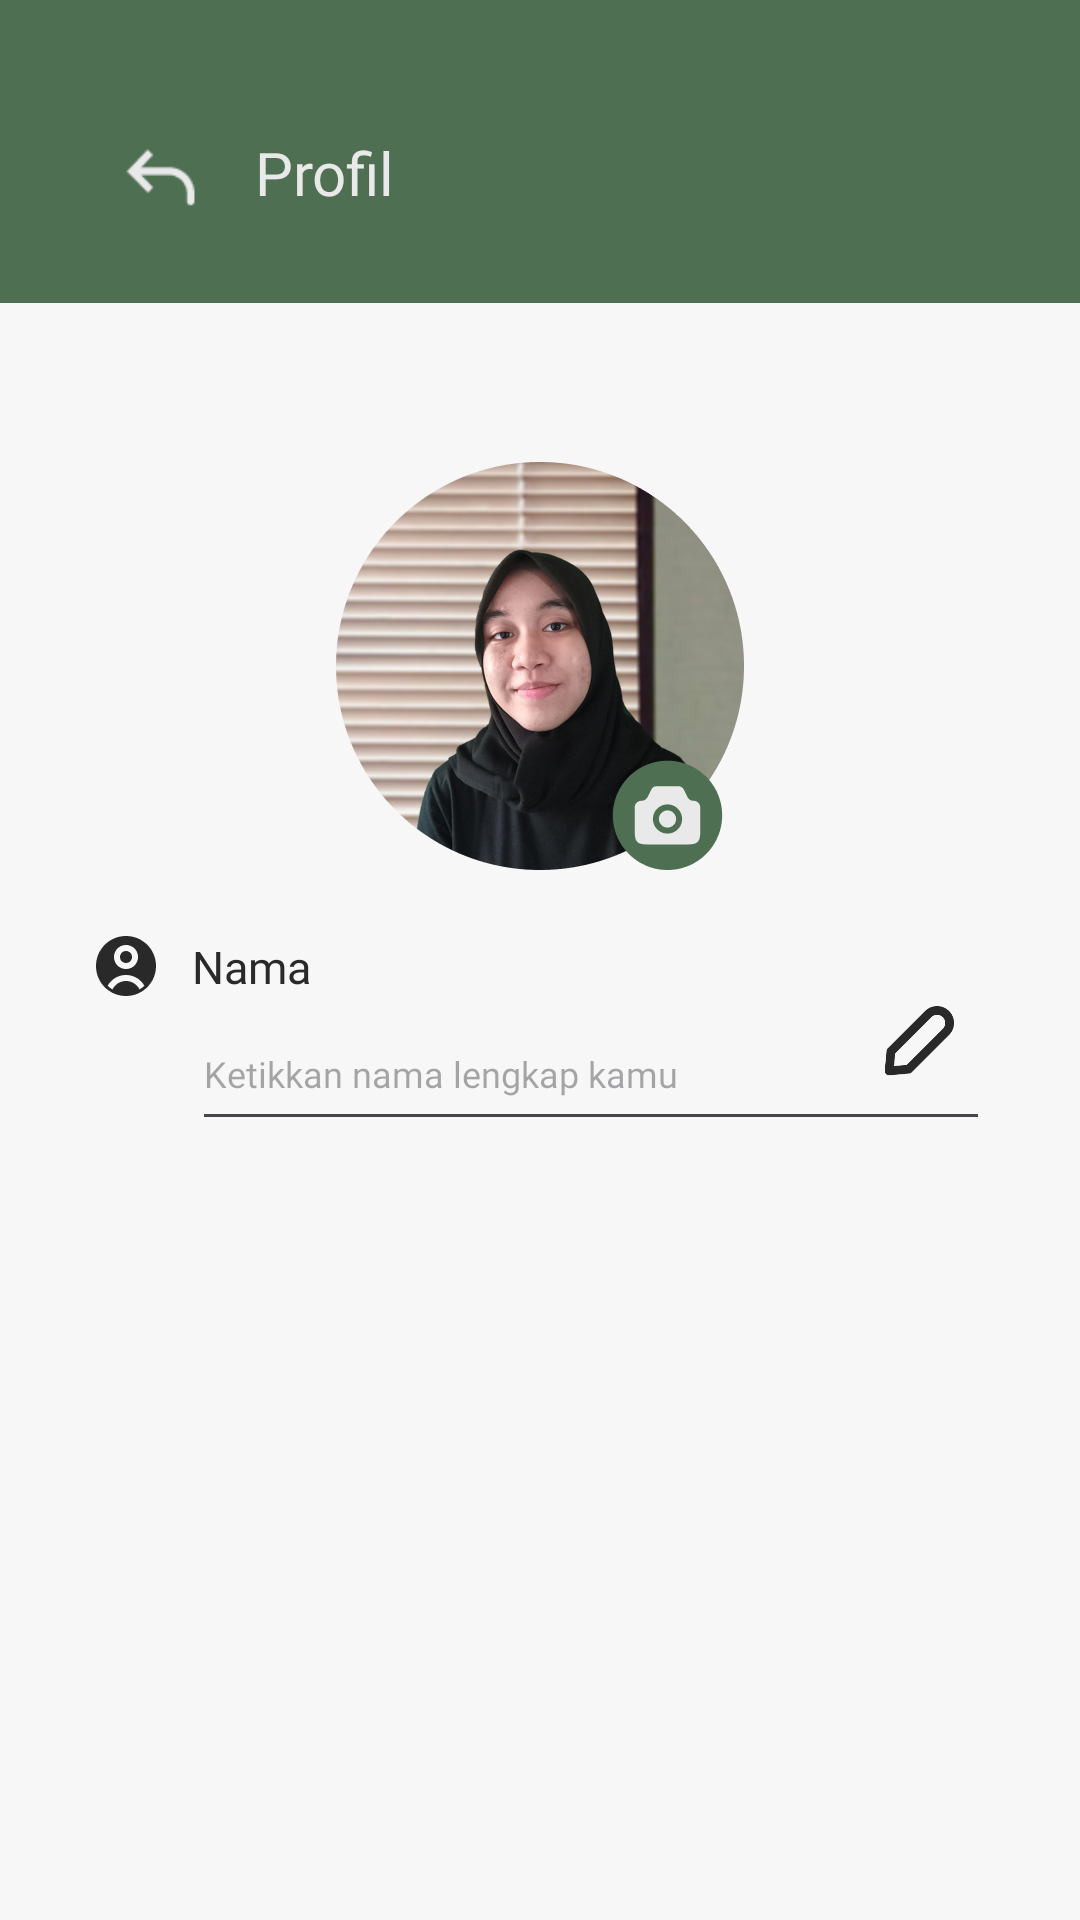

Named icons in this screenshot (1080 × 1920) and their bounding boxes, (x1, y1, x2, y2):
edit nama: (885, 1006, 954, 1075)
user profile: (96, 936, 156, 996)
